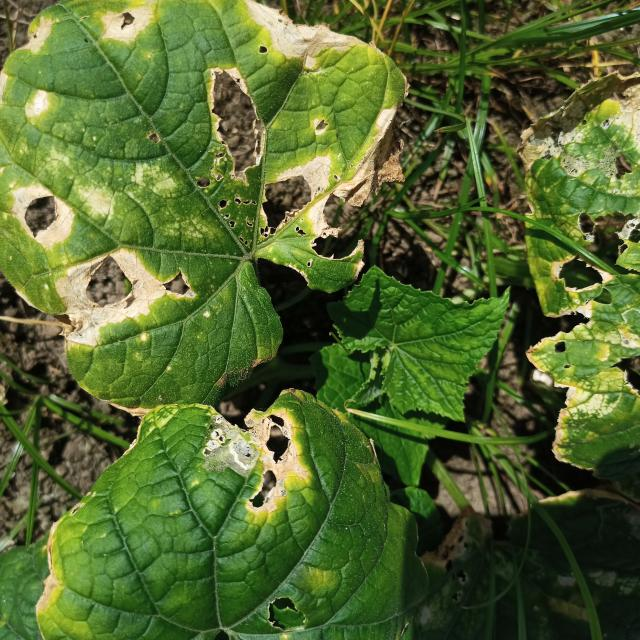disease_cucumber: (0, 0, 396, 340), (228, 382, 310, 515)
